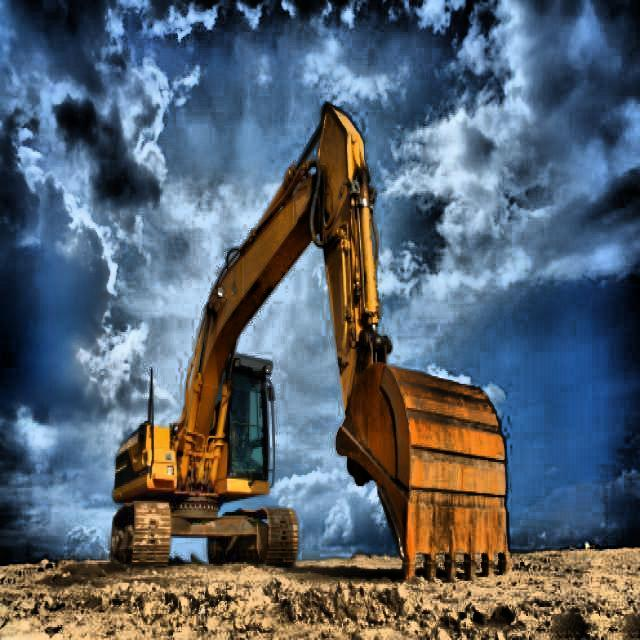excavator: (108, 97, 516, 580)
